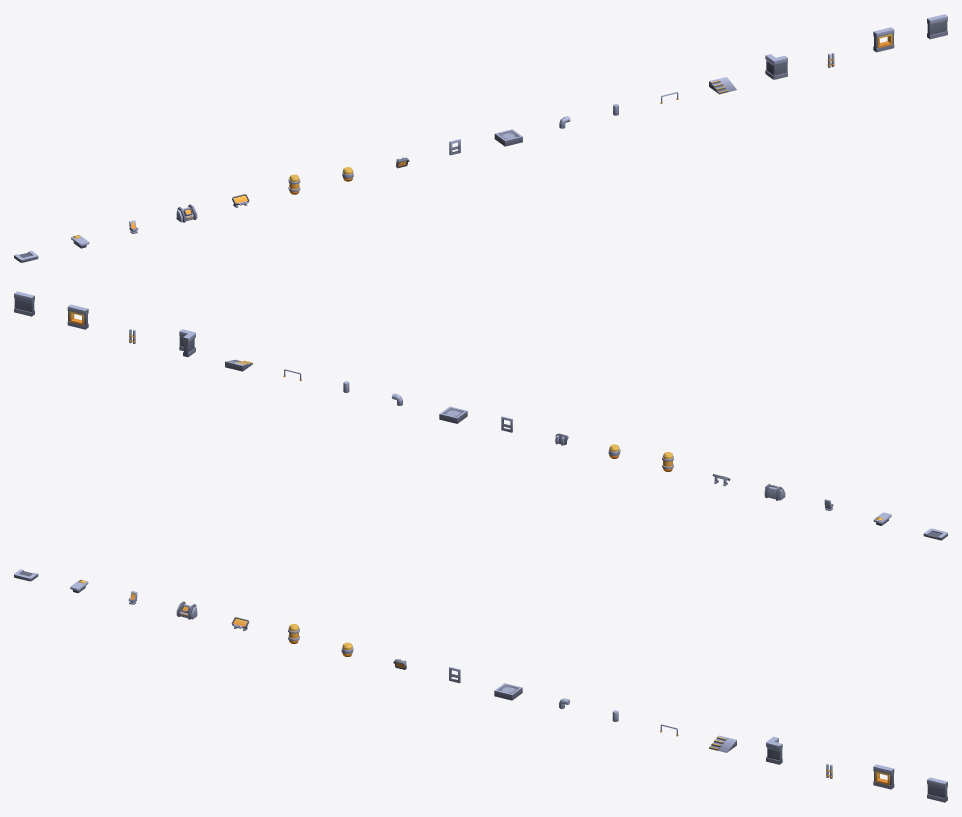
Rendered from Environment.glb.
3 views of the same model, one above another, from view 1: azimuth 30°, elevation 25°; view 2: azimuth 150°, elevation 25°; view 3: azimuth 330°, elevation 25° (orthographic).
Bounding box in the file's own units: 416 × 9.75 × 8.
Materials: 18 (18 with a texture image).
